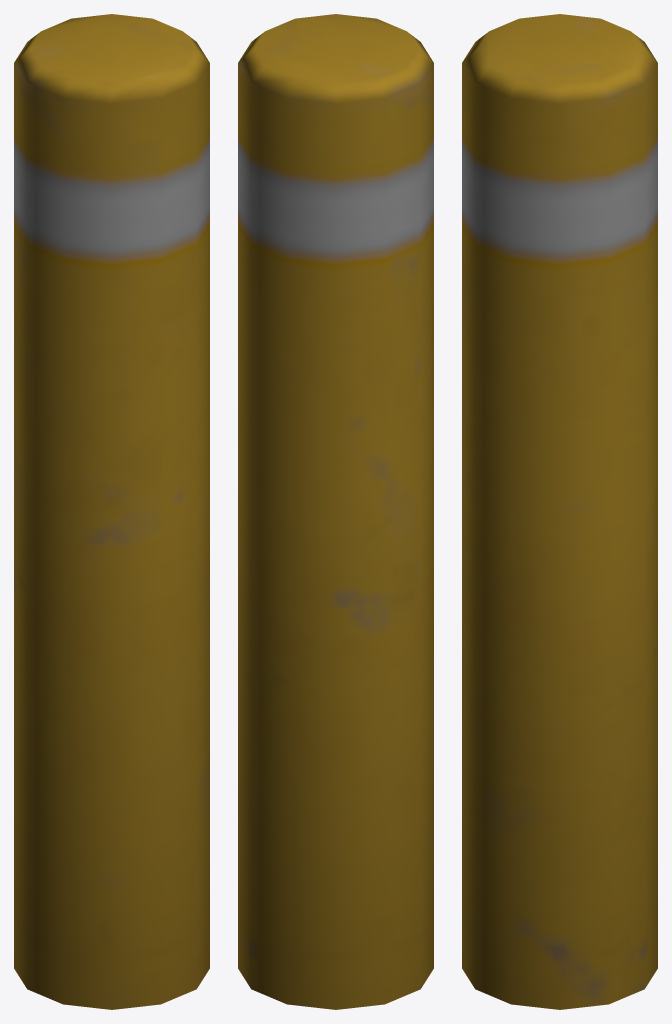
The model's file is objects_un_t06pole01.gltf.
The picture shows the model from 3 angles, left to right: view 1: azimuth 30°, elevation 25°; view 2: azimuth 150°, elevation 25°; view 3: azimuth 270°, elevation 25°; orthographic projection.
Visible parts, largest first — view 1: pole_00_shape:objects_un_t06pole01_01; view 2: pole_00_shape:objects_un_t06pole01_01; view 3: pole_00_shape:objects_un_t06pole01_01.
Boxes of the visible parts, x1=… form: pole_00_shape:objects_un_t06pole01_01: x1=14, y1=14, x2=209, y2=1009; pole_00_shape:objects_un_t06pole01_01: x1=238, y1=14, x2=433, y2=1009; pole_00_shape:objects_un_t06pole01_01: x1=462, y1=14, x2=657, y2=1009.
Size of what is drawn, in the model's own units: 0.16 by 0.83 by 0.16.
1 material, 1 textured.
